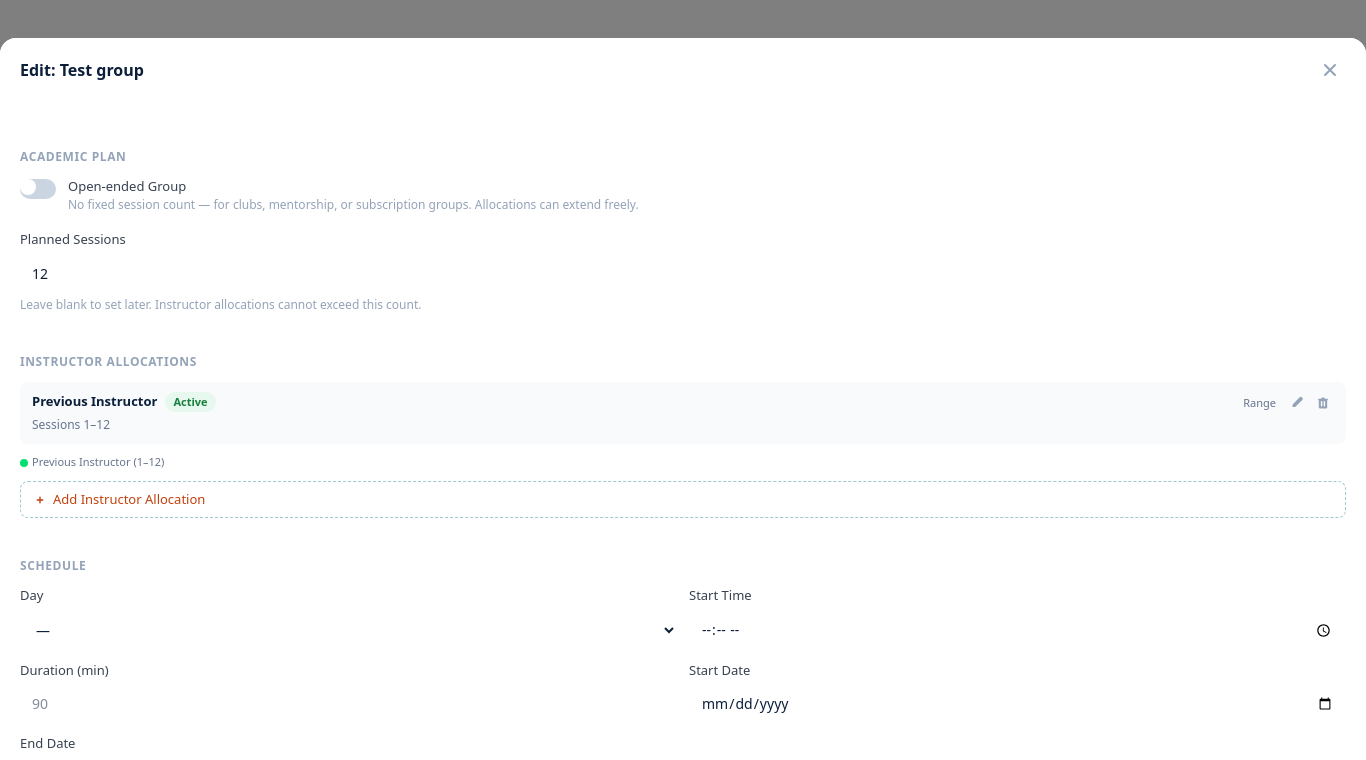
Test: group instructor replacement inside edit modal › keeps the editor and allocation available when removal fails
(page scrolled)
Click the button titled "Remove allocation": (1323, 403) x1=1312 y1=392 x2=1334 y2=414
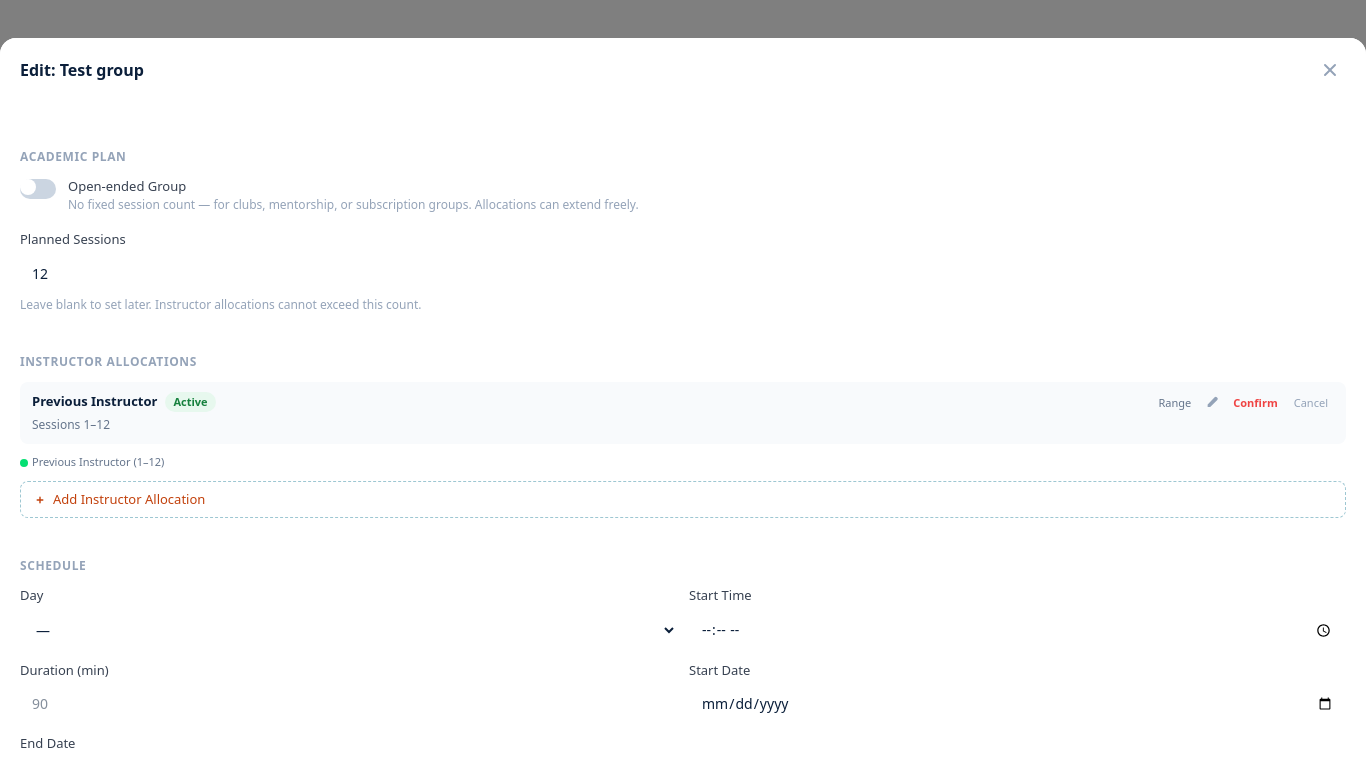
Click the button "Confirm": (1256, 403) x1=1227 y1=393 x2=1284 y2=413
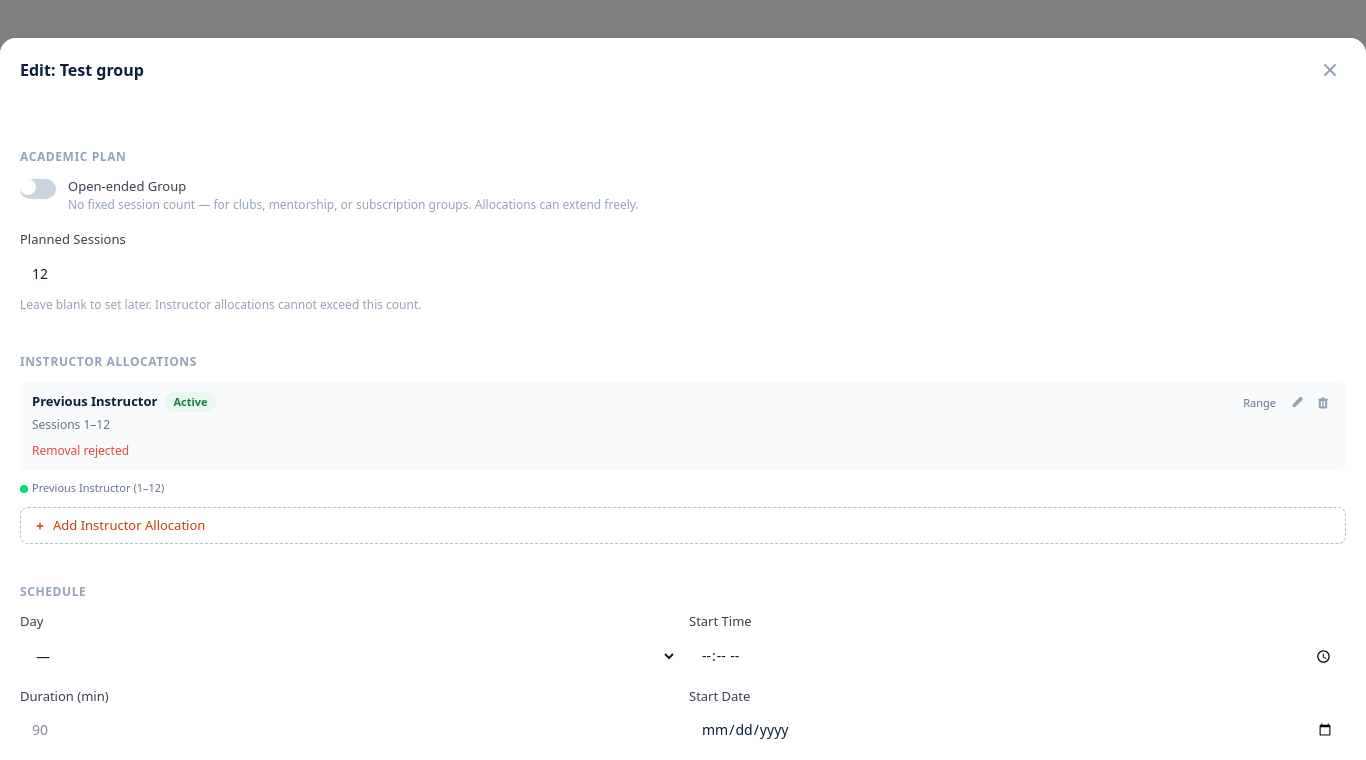
expect the text "Removal rejected" is shown: met, box x1=32 y1=442 x2=129 y2=459
expect the button titled "Remove allocation" is shown: met, box x1=1312 y1=392 x2=1334 y2=414
